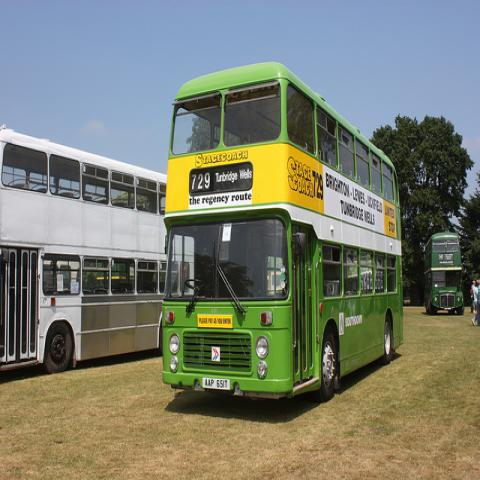bus: (162, 60, 404, 402), (1, 126, 170, 372), (424, 232, 466, 316)
